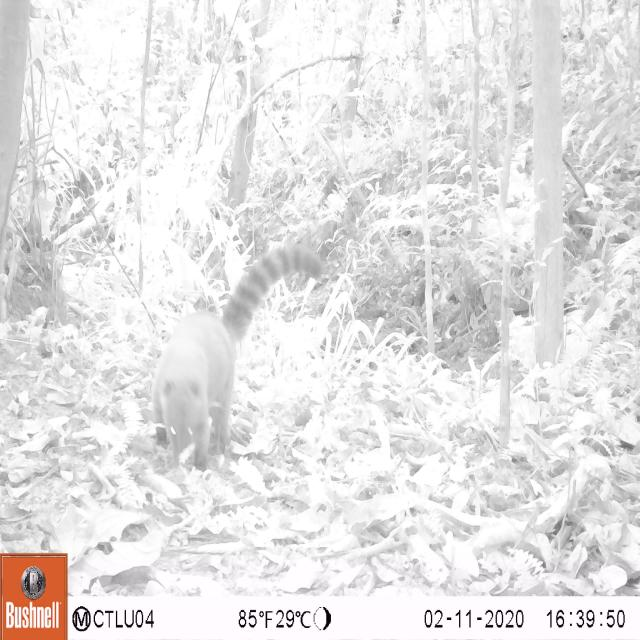South American Coati: (141, 230, 334, 491)
